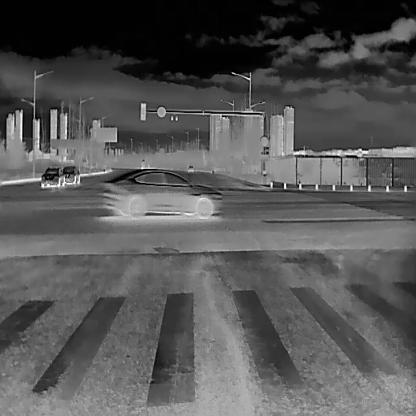car: (101, 168, 221, 220), (41, 165, 61, 188), (64, 165, 79, 184), (186, 164, 194, 172)
